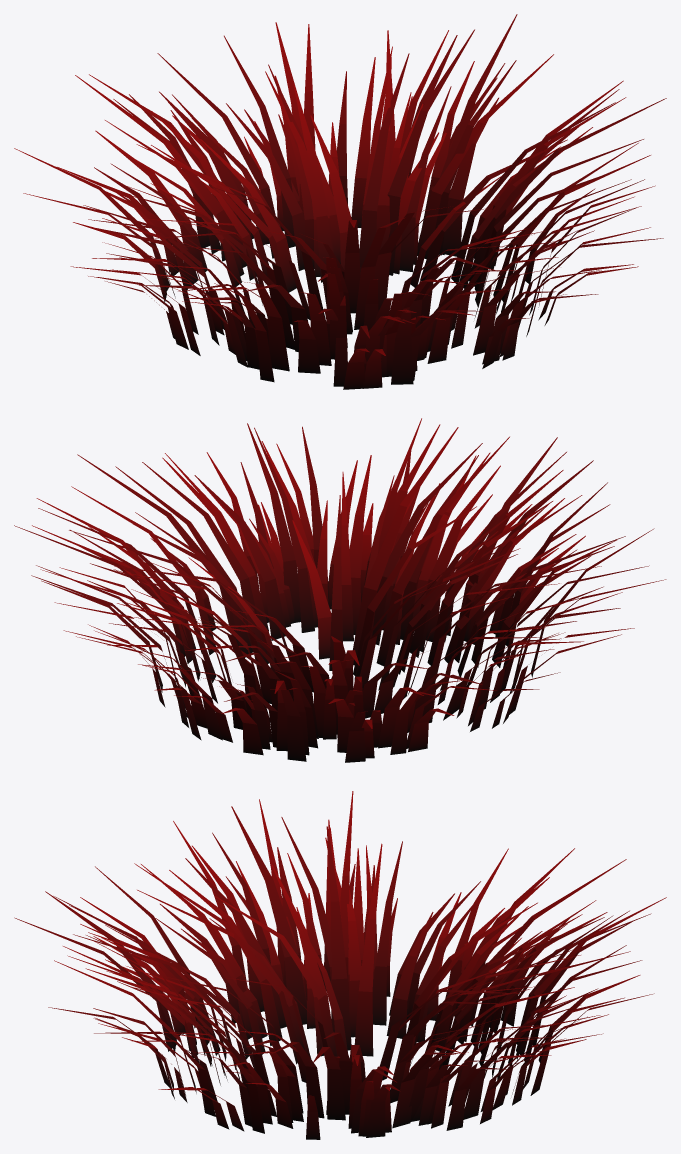
File: alpine_tussock_v1.fbx
3 views of the same model, one above another, from view 1: azimuth 30°, elevation 25°; view 2: azimuth 150°, elevation 25°; view 3: azimuth 270°, elevation 25° (orthographic). The views are drawn at different scales.
Visible parts, largest first — view 1: alpine_tussock_v1; view 2: alpine_tussock_v1; view 3: alpine_tussock_v1.
Part boxes in pixels (x1,y1,x2,y2): alpine_tussock_v1: (14,14,666,389); alpine_tussock_v1: (14,418,666,762); alpine_tussock_v1: (14,791,666,1139).
Bounding box in the file's own units: 80.31 × 24.27 × 81.36.
